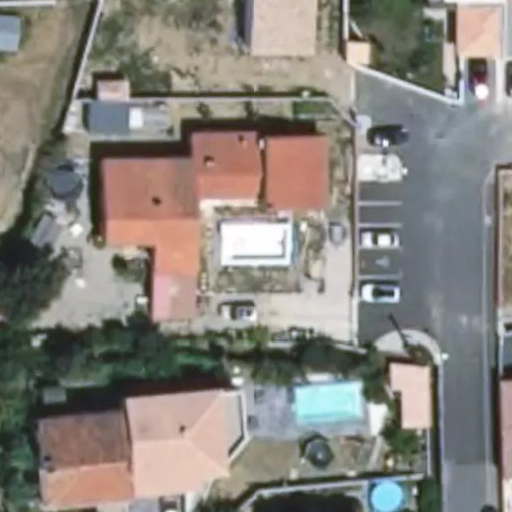pool: (220, 220, 287, 262), (297, 385, 364, 421), (370, 477, 409, 512)
